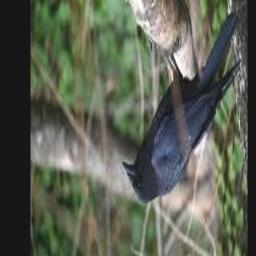Crow: (122, 7, 244, 205)
